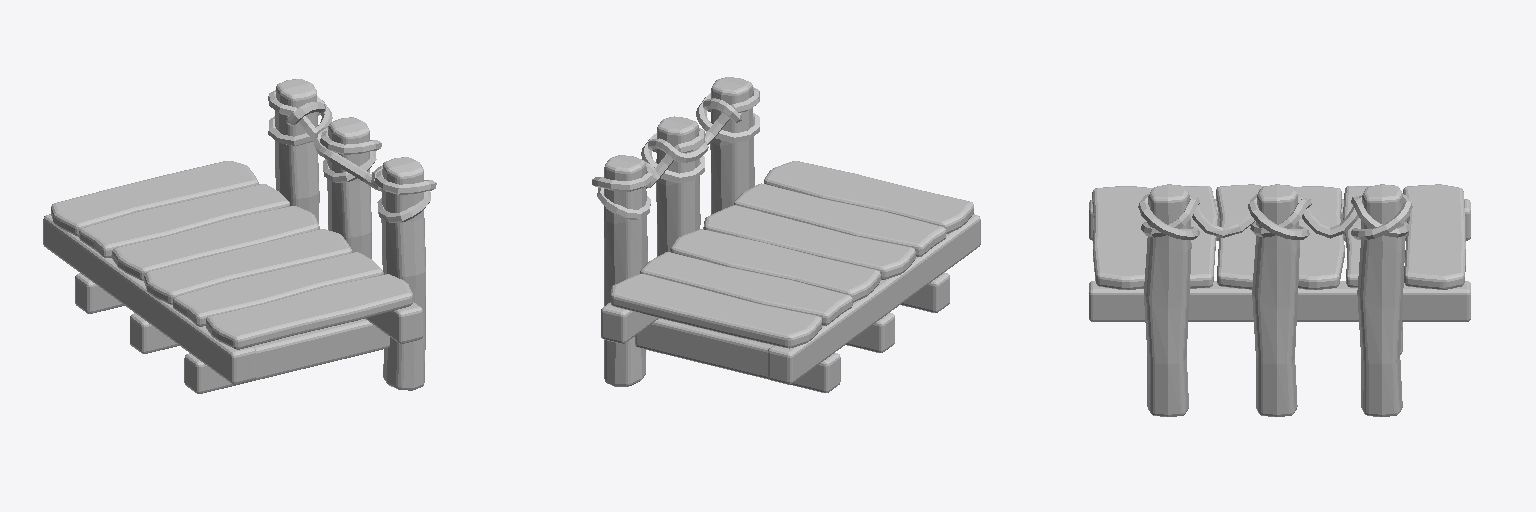
The model's file is pont_corde.obj.
The picture shows the model from 3 angles: view 1: azimuth 30°, elevation 25°; view 2: azimuth 150°, elevation 25°; view 3: azimuth 270°, elevation 25°; orthographic projection.
Visible parts, largest first — view 1: Cube, Cube.002, Cube.003, Cube.001, BézierCurve.001, Cube.005, Cube.004; view 2: Cube, Cube.002, Cube.003, Cube.005, BézierCurve.001, Cube.001, Cube.004; view 3: Cube, Cube.002, Cube.001, Cube.005, Cube.004, BézierCurve.001.
Part boxes in pixels (x1,y1,x2,y2): Cube: (51, 161, 412, 349); Cube.002: (43, 214, 422, 384); Cube.003: (75, 273, 389, 393); Cube.001: (381, 157, 425, 390); BézierCurve.001: (268, 90, 436, 222); Cube.005: (275, 79, 319, 223); Cube.004: (327, 117, 371, 258); Cube: (610, 161, 973, 348); Cube.002: (601, 214, 980, 384); Cube.003: (635, 272, 949, 392); Cube.005: (604, 155, 647, 386); BézierCurve.001: (592, 87, 759, 219); Cube.001: (710, 77, 754, 214); Cube.004: (656, 116, 700, 256); Cube: (1092, 184, 1465, 289); Cube.002: (1089, 199, 1470, 321); Cube.001: (1144, 184, 1191, 416); Cube.005: (1357, 184, 1404, 416); Cube.004: (1252, 184, 1299, 416); BézierCurve.001: (1138, 194, 1412, 239).
Size of the model in its own units: 6.29 by 5.42 by 8.54.